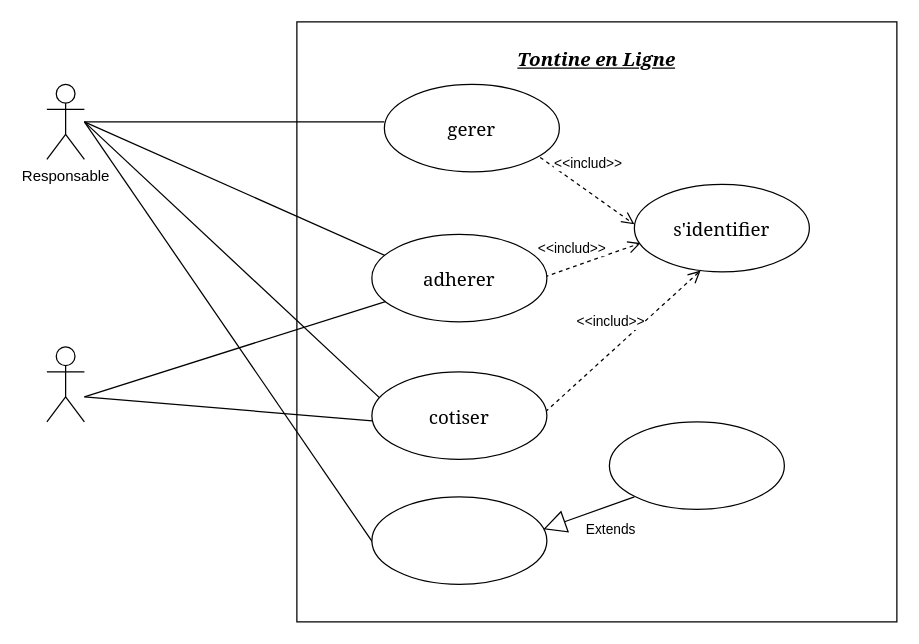
This 919x644 diagram has some shape labels left out. The centre of each missing label's shape, as x and y in pixels:
"avoir un gagnant" belongs at point 696,465.
"effectuer un virement" belongs at point 459,540.
"Membre" belongs at point 65,384.
